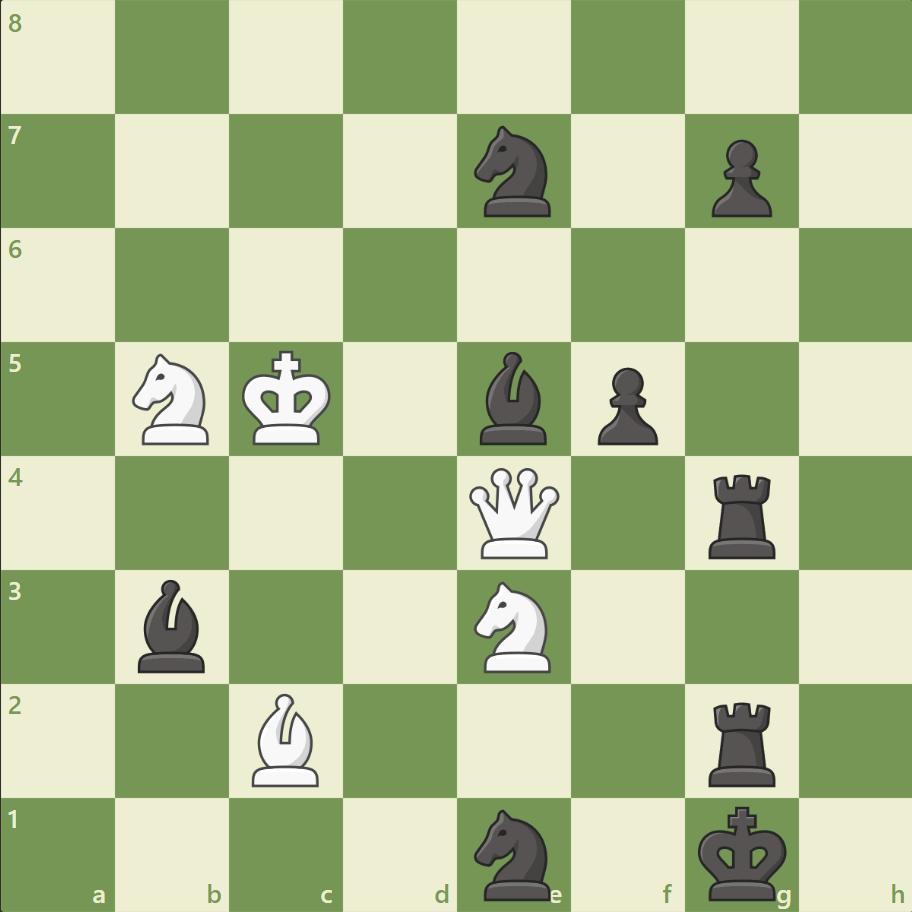B: (244, 687, 328, 790)
K: (238, 344, 338, 452)
N: (124, 348, 222, 450), (465, 575, 562, 677)
Q: (464, 463, 563, 562)
b: (471, 347, 555, 449), (131, 574, 215, 676)
k: (692, 798, 792, 906)
n: (465, 121, 562, 223), (465, 802, 562, 904)
p: (701, 132, 776, 223), (588, 359, 662, 450)
r: (700, 466, 783, 563), (700, 693, 783, 790)
